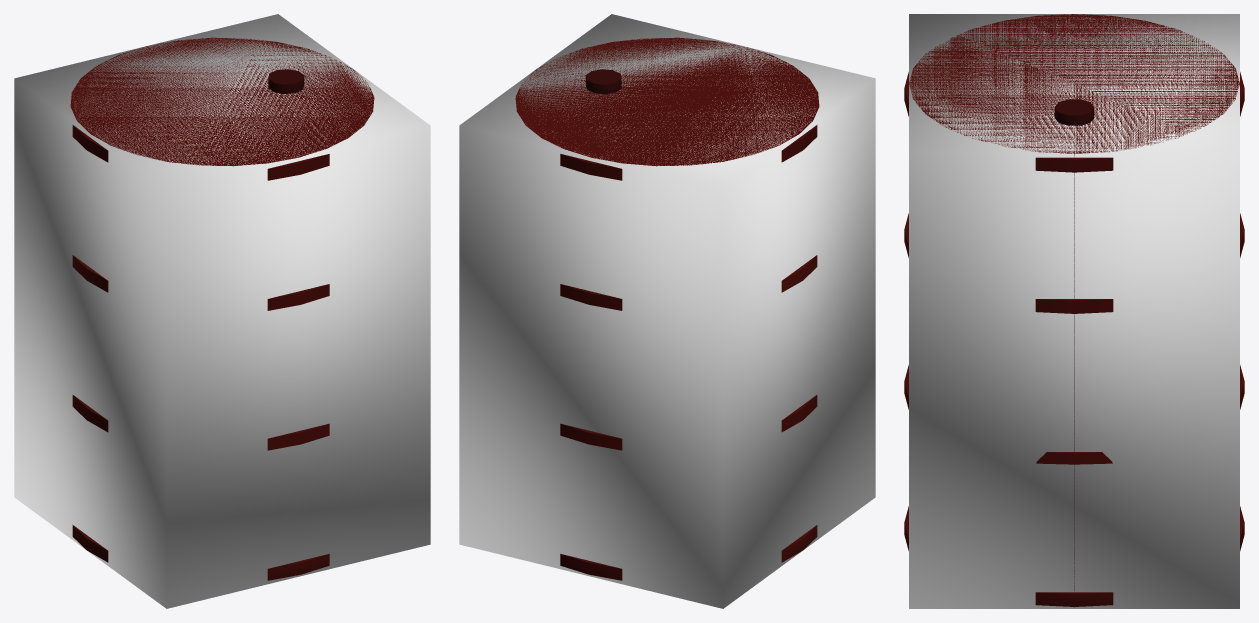
The model's file is bidon.glb.
The picture shows the model from 3 angles, left to right: view 1: azimuth 30°, elevation 25°; view 2: azimuth 150°, elevation 25°; view 3: azimuth 270°, elevation 25°; orthographic projection. The views are drawn at different scales.
Parts seen in each view (by area): view 1: bidon-colcaja, bidon; view 2: bidon-colcaja, bidon; view 3: bidon-colcaja, bidon.
Boxes of the visible parts, box(x1,y1,x2,y2) form: bidon-colcaja: box(14, 14, 430, 608); bidon: box(70, 37, 374, 580); bidon-colcaja: box(459, 14, 875, 608); bidon: box(515, 37, 819, 580); bidon-colcaja: box(909, 14, 1239, 608); bidon: box(904, 14, 1244, 607).
Bounding box in the file's own units: 0.596 × 0.9 × 0.596.
